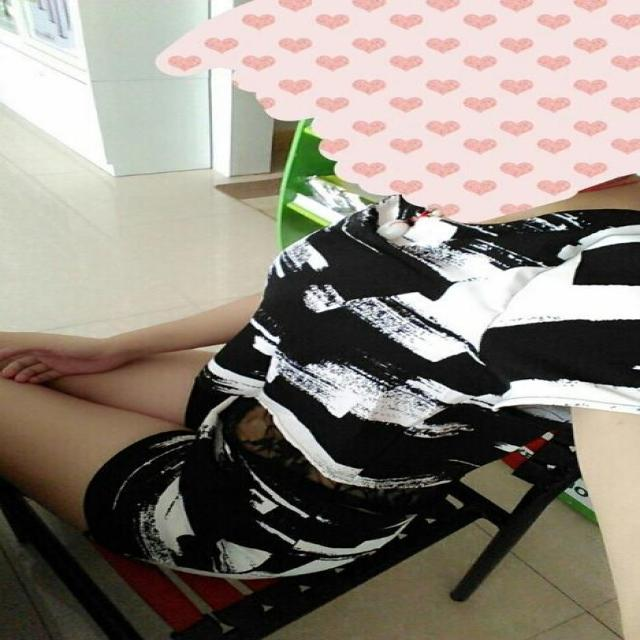short-sleeve-dress: (292, 206, 640, 576)
